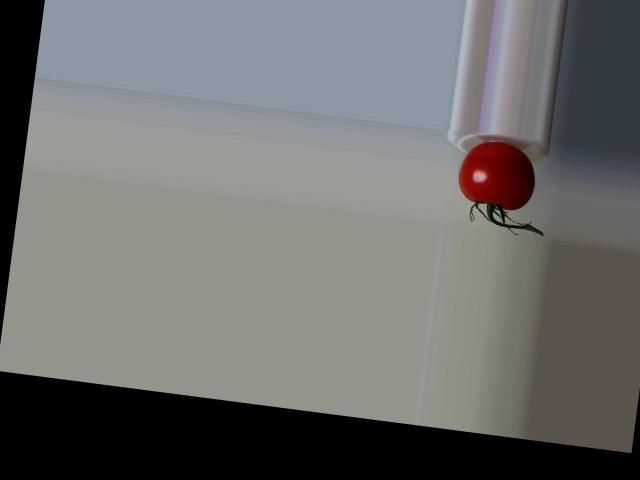tomato: (455, 137, 540, 212)
